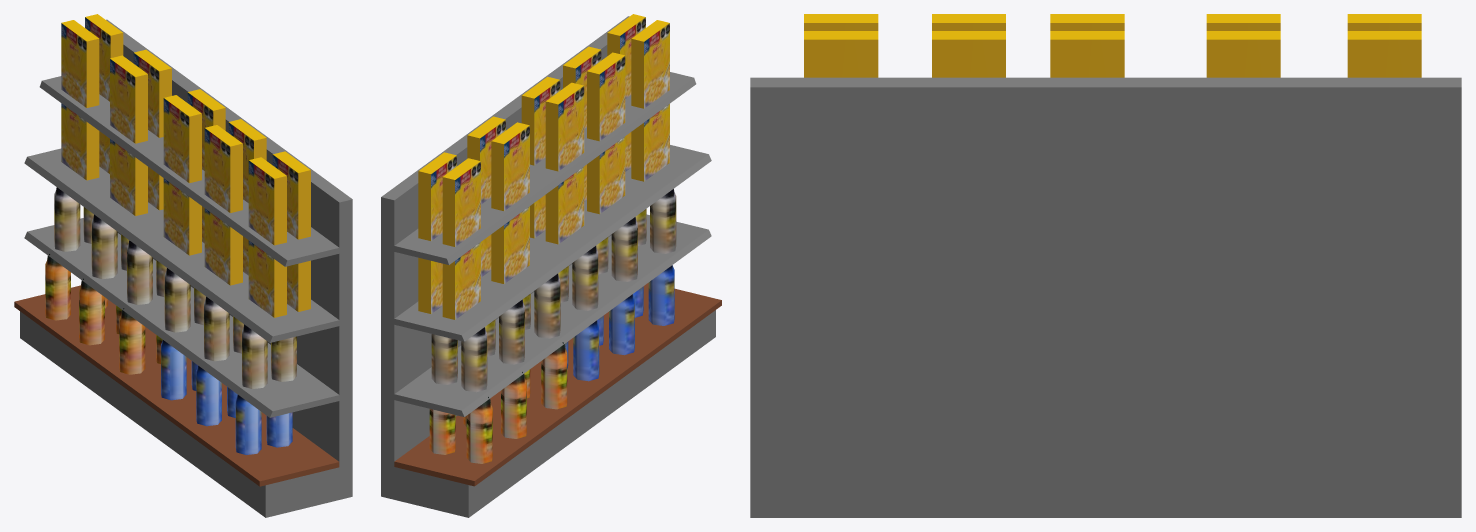
File: cereal_and_pesticide.glb
3 renders of one model, left to right at view 1: azimuth 30°, elevation 25°; view 2: azimuth 150°, elevation 25°; view 3: azimuth 270°, elevation 25°, orthographic. The views are drawn at different scales.
Parts seen in each view (by area): view 1: cereal_and_pesticide, Cube.721, Cube.723, Cube.725, Cube.717, Cube.719, Cube.735, Cube.731, Cube.733, Cube.727, Cube.729, Cube.724 (+21 smaller); view 2: cereal_and_pesticide, Cube.721, Cube.719, Cube.723, Cube.717, Cube.725, Cube.731, Cube.727, Cube.733, Cube.735, Cube.729, Cube.100 (+21 smaller); view 3: cereal_and_pesticide, Cube.100, Cube.718, Cube.720, Cube.724, Cube.722, Cube.717, Cube.719, Cube.721, Cube.725, Cube.723.
Boxes of the visible parts, x1,y1,x2,y2 form: cereal_and_pesticide: (14,19,352,517); Cube.721: (163,95,201,183); Cube.723: (204,125,242,212); Cube.725: (248,157,286,245); Cube.717: (61,20,99,107); Cube.719: (110,55,147,143); Cube.735: (248,240,286,317); Cube.731: (163,178,201,255); Cube.733: (204,208,242,285); Cube.727: (61,103,99,180); Cube.729: (110,139,147,215); Cube.724: (272,151,310,239); cereal_and_pesticide: (381,16,721,517); Cube.721: (545,82,584,171); Cube.719: (491,122,529,210); Cube.723: (587,52,625,141); Cube.717: (442,158,480,246); Cube.725: (631,20,669,108); Cube.731: (545,166,584,244); Cube.727: (442,242,480,319); Cube.733: (587,136,625,214); Cube.735: (631,104,669,181); Cube.729: (491,206,529,283); Cube.100: (418,152,456,240); cereal_and_pesticide: (750,77,1461,517); Cube.100: (1347,31,1421,77); Cube.718: (1206,31,1280,77); Cube.720: (1050,31,1124,77); Cube.724: (804,31,878,77); Cube.722: (932,31,1005,77); Cube.717: (1347,14,1421,30); Cube.719: (1206,14,1280,30); Cube.721: (1050,14,1124,30); Cube.725: (804,14,878,30); Cube.723: (932,14,1005,30).
Size of the model in its own units: 2.55 by 8.36 by 11.67.
Materials: 4 (2 with a texture image).
